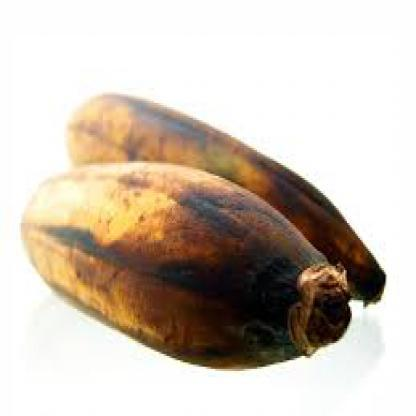banana_rotten: (14, 62, 388, 384)
